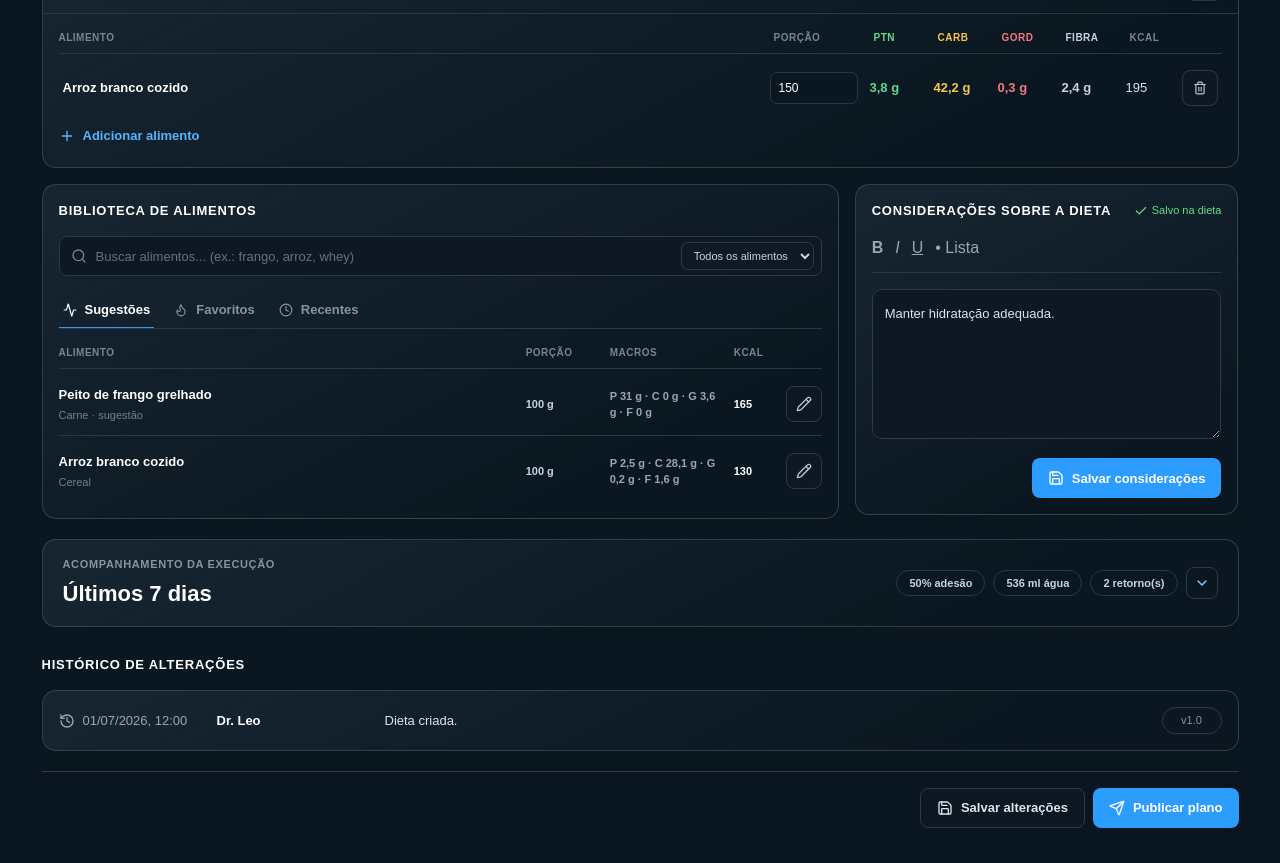
Test: PartnerClientDietView › renderiza a aba Dietas fiel ao fluxo do Figma sem termos proibidos
(page scrolled)
Check: the text "Acompanhamento da execução" is shown, box [62,556,275,573]
Check: the text "Últimos registros do Cliente" is not shown
Click the button "Acompanhamento da execução".
click(169, 564)  # box [42,540,1238,626]
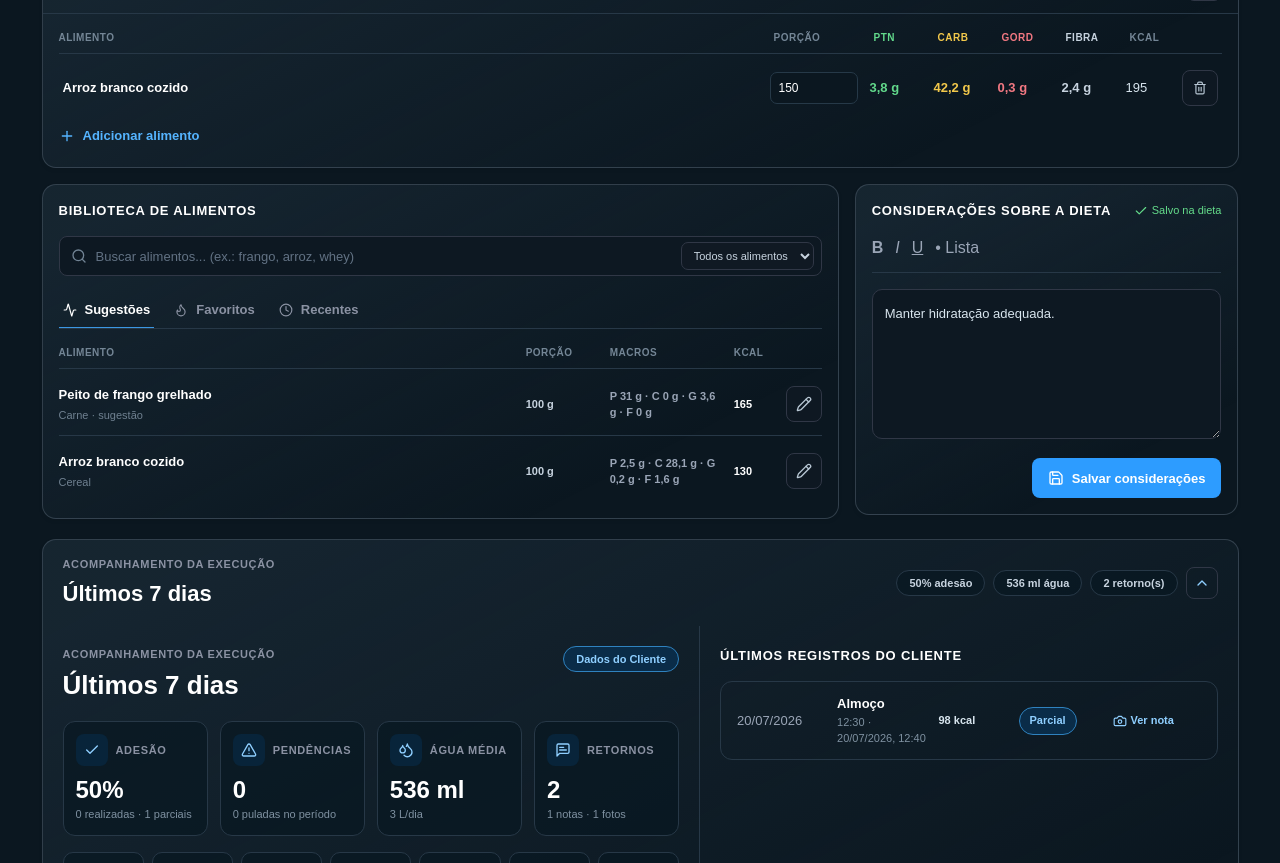
Check: the button "Acompanhamento da execução" is expanded, box [42,540,1238,626]
Check: the text "Dados do Cliente" is shown, box [563,646,679,672]
Check: the heading "Últimos registros do Cliente" is shown, box [720,648,962,663]
